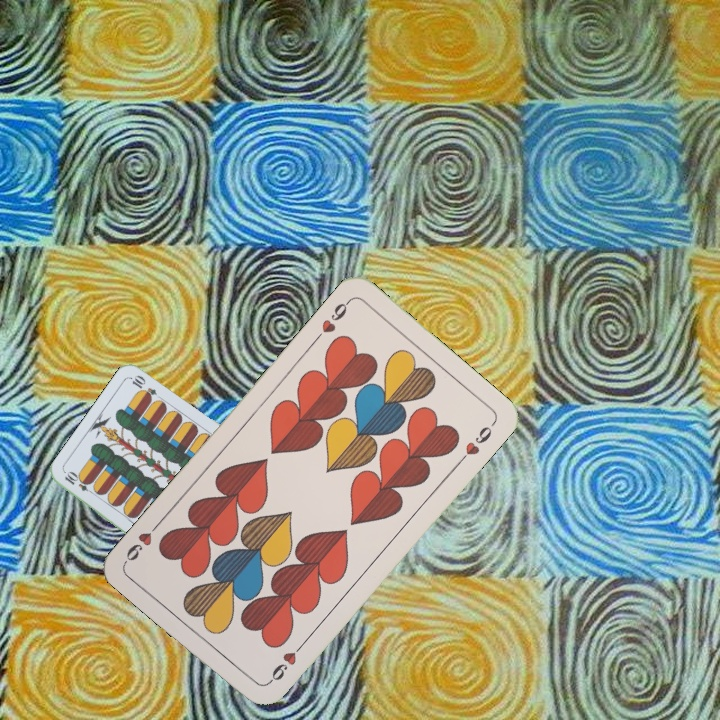E10: (60, 468, 98, 497)
H9: (310, 295, 354, 344), (264, 638, 308, 687)
